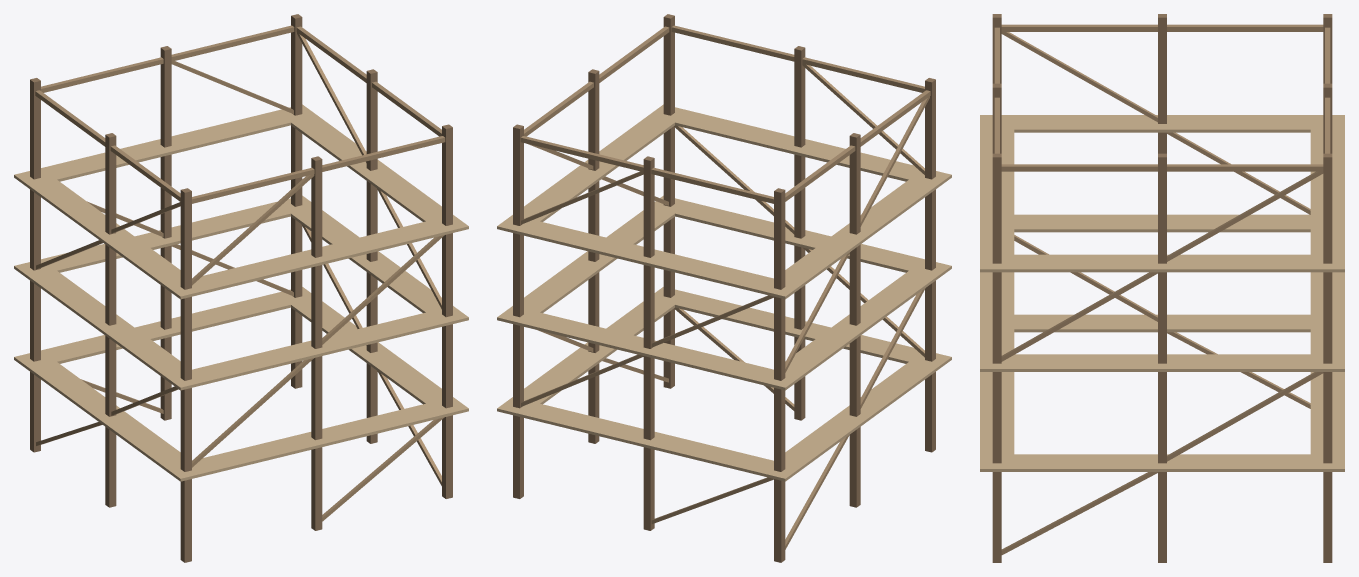
The model's file is scaffold.glb.
3 renders of one model, left to right at view 1: azimuth 30°, elevation 25°; view 2: azimuth 150°, elevation 25°; view 3: azimuth 270°, elevation 25°, orthographic. The views are drawn at different scales.
Visible parts, largest first — view 1: Scaffold.Plank, Scaffold.Pole, Scaffold.Ledger; view 2: Scaffold.Plank, Scaffold.Pole, Scaffold.Ledger; view 3: Scaffold.Plank, Scaffold.Pole, Scaffold.Ledger.
Boxes of the visible parts, x1=… form: Scaffold.Plank: x1=14, y1=104, x2=468, y2=481; Scaffold.Pole: x1=30, y1=14, x2=452, y2=562; Scaffold.Ledger: x1=35, y1=25, x2=445, y2=521; Scaffold.Plank: x1=497, y1=104, x2=951, y2=481; Scaffold.Pole: x1=513, y1=14, x2=935, y2=562; Scaffold.Ledger: x1=520, y1=25, x2=930, y2=549; Scaffold.Plank: x1=980, y1=115, x2=1344, y2=471; Scaffold.Pole: x1=992, y1=14, x2=1332, y2=562; Scaffold.Ledger: x1=994, y1=24, x2=1330, y2=554.
Bounding box in the file's own units: 5.3 × 6.5 × 5.3.
